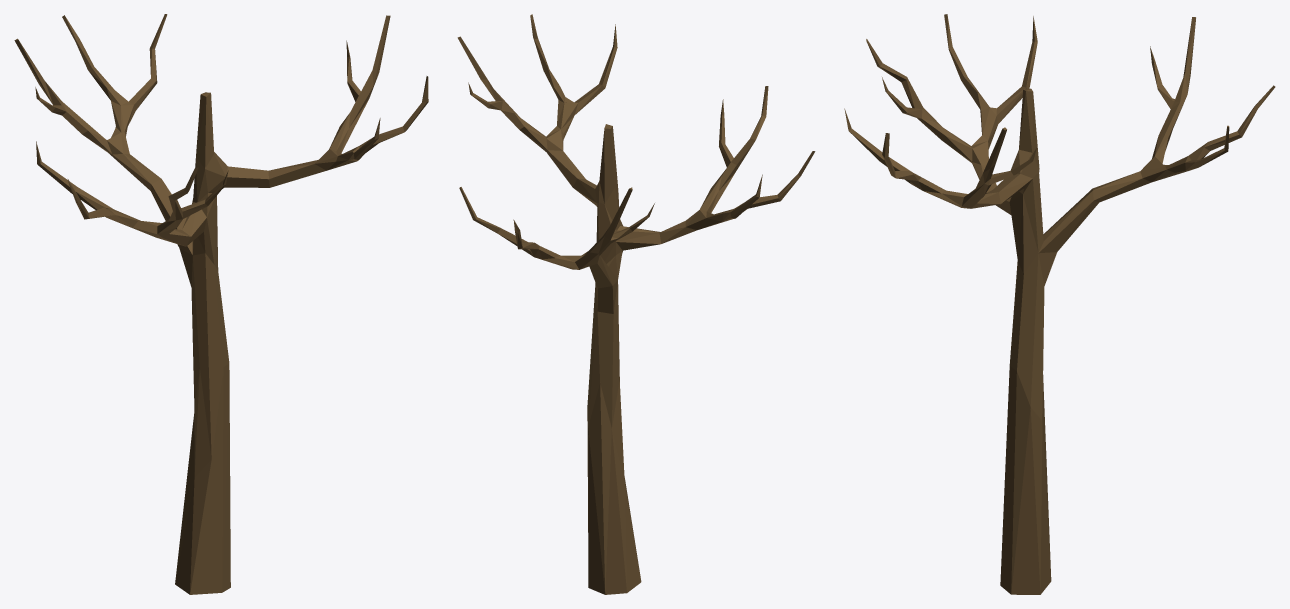
Rendered from OakTree2NoLeaves.fbx.
3 views of the same model, side by side, from view 1: azimuth 30°, elevation 25°; view 2: azimuth 150°, elevation 25°; view 3: azimuth 270°, elevation 25° (orthographic). The views are drawn at different scales.
Visible parts, largest first — view 1: OakTree2NoLeaves_LOD0; view 2: OakTree2NoLeaves_LOD0; view 3: OakTree2NoLeaves_LOD0.
Part boxes in pixels (box(x1,y1,x2,y2)): OakTree2NoLeaves_LOD0: box(14, 14, 428, 594); OakTree2NoLeaves_LOD0: box(457, 14, 815, 594); OakTree2NoLeaves_LOD0: box(844, 14, 1275, 594).
Size of what is drawn, in the model's own units: 687 by 1002 by 721.
